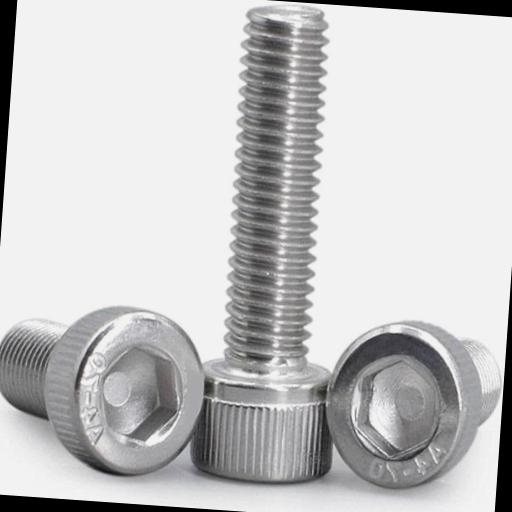Hex-Allen: (322, 310, 485, 493), (46, 301, 212, 478)
